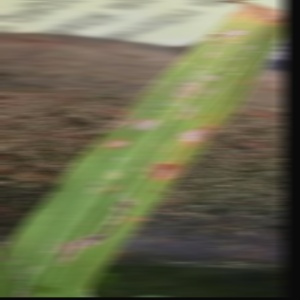Brown_Spot: (45, 188, 143, 263), (95, 101, 170, 137), (171, 112, 218, 154), (141, 149, 186, 180), (103, 130, 141, 155), (219, 17, 251, 45), (175, 91, 202, 121), (191, 83, 219, 104), (200, 66, 224, 86), (201, 40, 224, 57)
